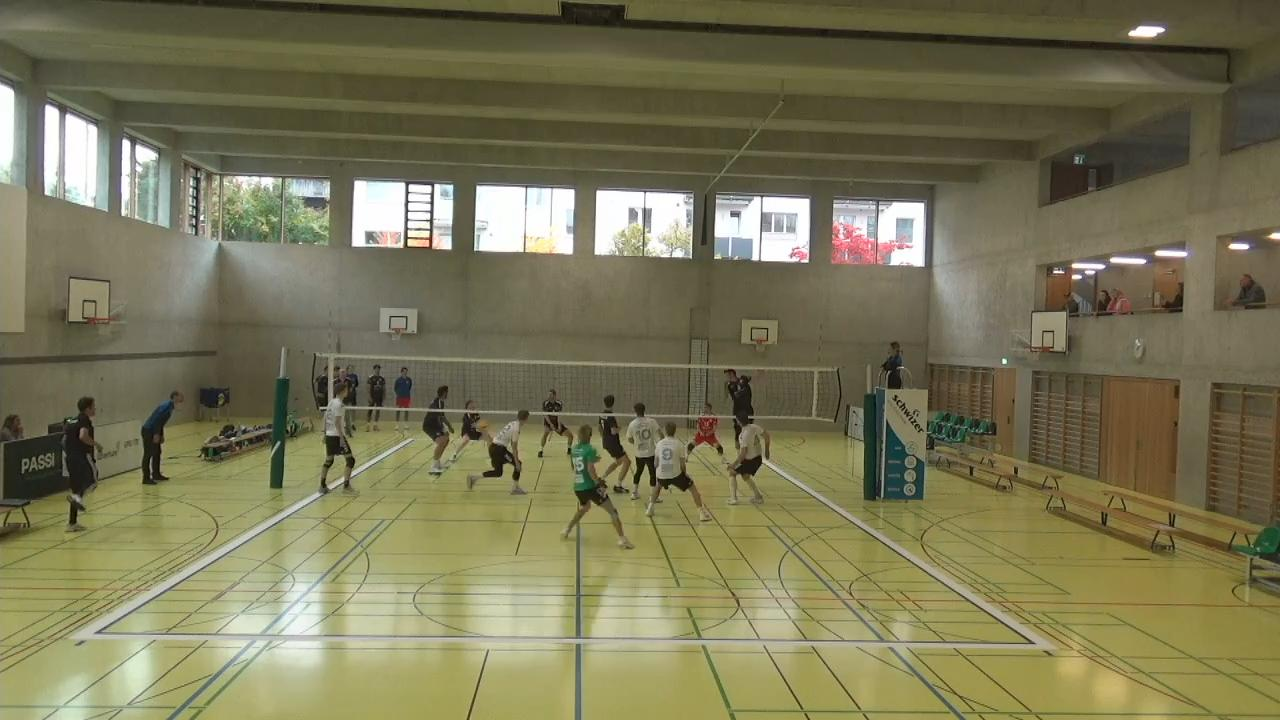difesa: (451, 394, 495, 465)
